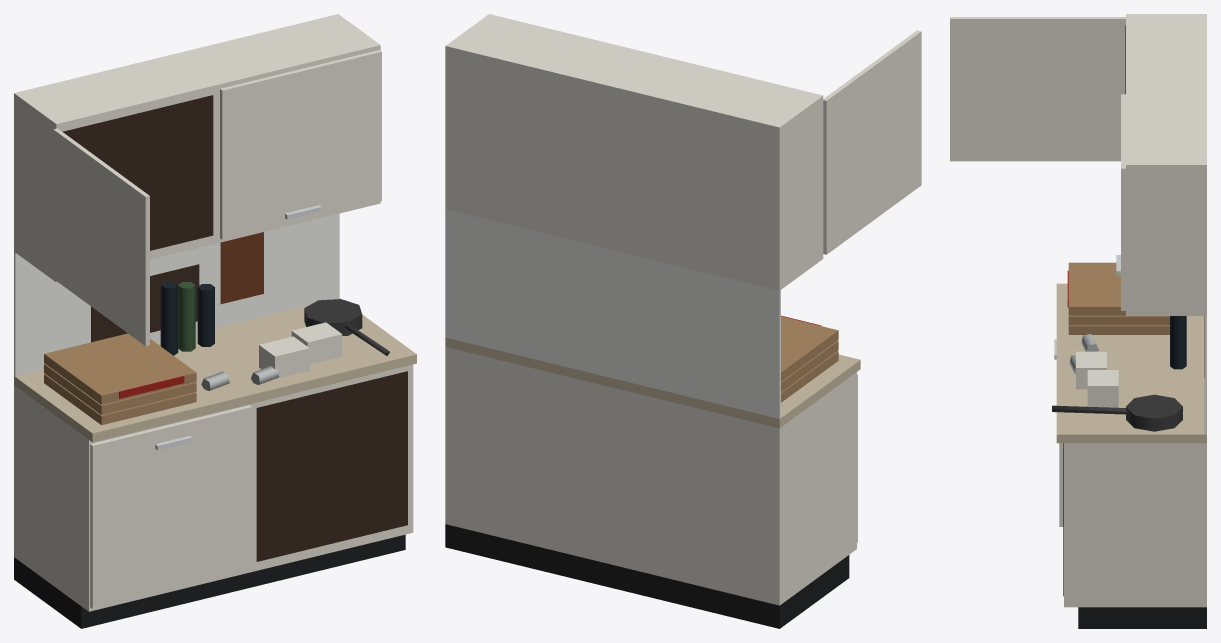
Rendered from kitchen_counter_cluttered.glb.
3 views of the same model, side by side, from view 1: azimuth 30°, elevation 25°; view 2: azimuth 150°, elevation 25°; view 3: azimuth 270°, elevation 25° (orthographic). The views are drawn at different scales.
Visible parts, largest first — view 1: kitchen_counter_cluttered; view 2: kitchen_counter_cluttered; view 3: kitchen_counter_cluttered.
Boxes of the visible parts, bbox=[...] form: kitchen_counter_cluttered: bbox=[14, 14, 416, 628]; kitchen_counter_cluttered: bbox=[445, 14, 921, 628]; kitchen_counter_cluttered: bbox=[950, 14, 1206, 628].
Size of the model in its own units: 1.51 by 2.15 by 1.08.
Materials: 1 (1 with a texture image).
